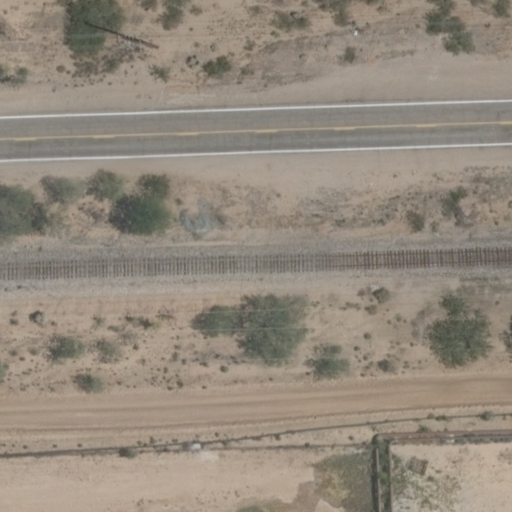DT: (96, 31, 159, 53)
